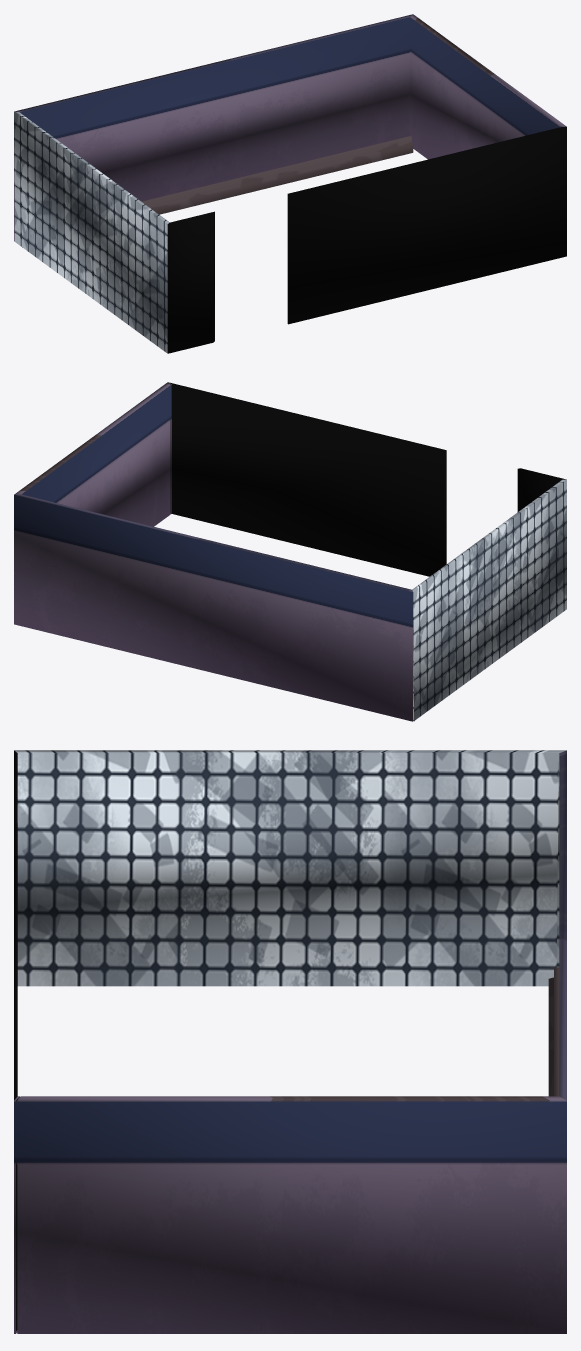
File: Paredes.fbx
3 views of the same model, one above another, from view 1: azimuth 30°, elevation 25°; view 2: azimuth 150°, elevation 25°; view 3: azimuth 270°, elevation 25° (orthographic). The views are drawn at different scales.
Parts seen in each view (by area): view 1: Parede; view 2: Parede; view 3: Parede.
Boxes of the visible parts, x1=… form: Parede: x1=14, y1=14, x2=566, y2=353; Parede: x1=14, y1=382, x2=566, y2=721; Parede: x1=14, y1=750, x2=566, y2=1333.
Bounding box in the file's own units: 1152 × 769 × 369.
